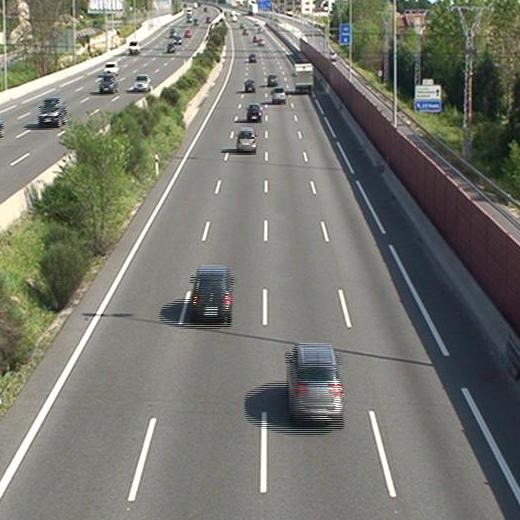car: (286, 344, 344, 422), (190, 267, 231, 322), (237, 128, 256, 153), (247, 105, 262, 119), (272, 88, 286, 102), (268, 74, 278, 87), (245, 81, 255, 93), (248, 53, 256, 62)
small-truck: (294, 63, 313, 92)
